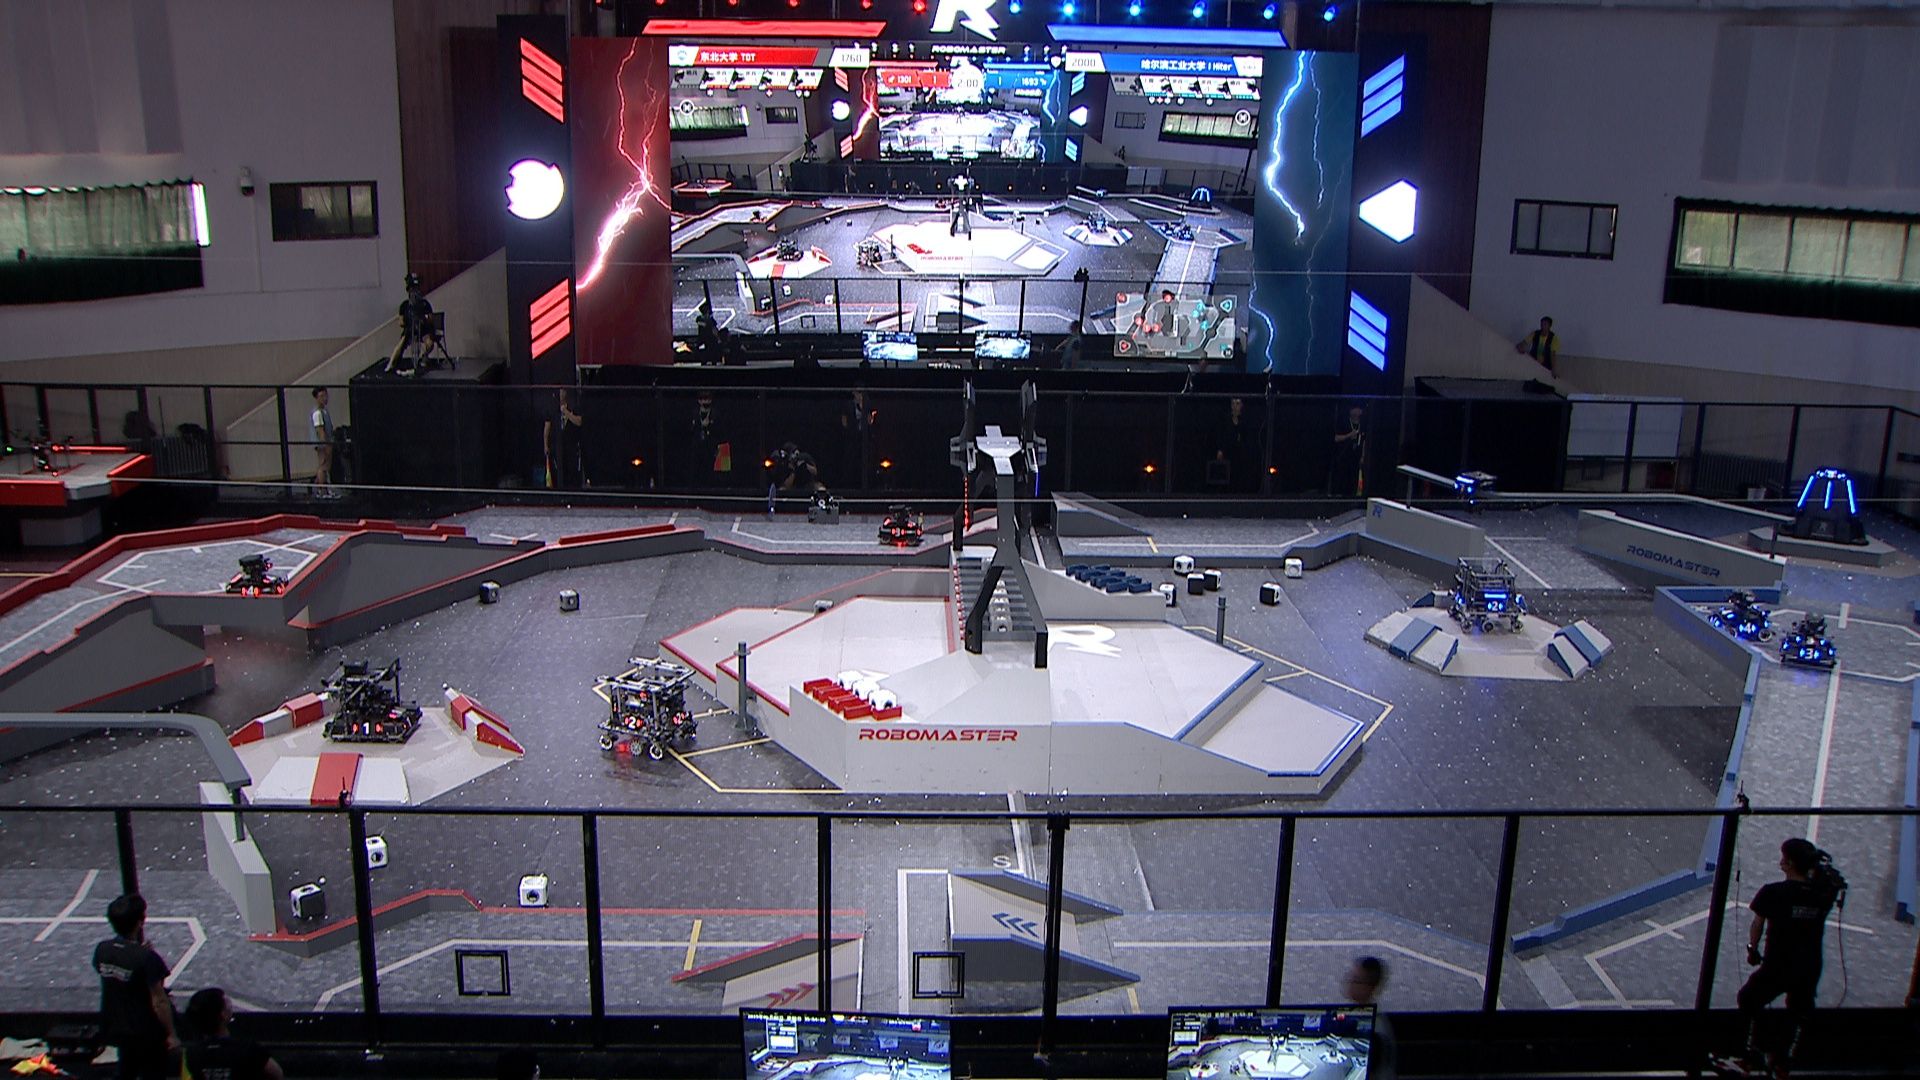armor: (1793, 472, 1816, 509), (1845, 477, 1859, 517), (349, 721, 382, 737), (1821, 477, 1836, 512), (1793, 633, 1826, 647), (385, 702, 409, 721), (622, 713, 646, 733), (400, 712, 419, 733), (1797, 645, 1822, 661), (1735, 617, 1756, 636), (237, 583, 262, 597), (1816, 469, 1846, 481), (1485, 597, 1505, 615), (258, 570, 280, 585), (1452, 479, 1472, 495), (887, 524, 909, 538), (1706, 615, 1722, 632), (1718, 604, 1737, 618), (671, 709, 686, 727), (903, 514, 920, 529), (272, 579, 287, 593), (1452, 589, 1466, 605)
base: (1774, 463, 1873, 550)
car: (593, 655, 699, 765), (316, 654, 425, 745), (1443, 553, 1524, 633), (1780, 608, 1841, 673), (1702, 591, 1774, 644), (222, 551, 291, 600), (877, 500, 924, 551)
ignore: (852, 235, 884, 272), (771, 237, 804, 262), (1188, 182, 1215, 211), (1081, 214, 1112, 233), (746, 207, 770, 225), (1176, 223, 1196, 243), (1156, 218, 1179, 235), (1091, 185, 1112, 200)
watcher: (1447, 462, 1501, 513)
